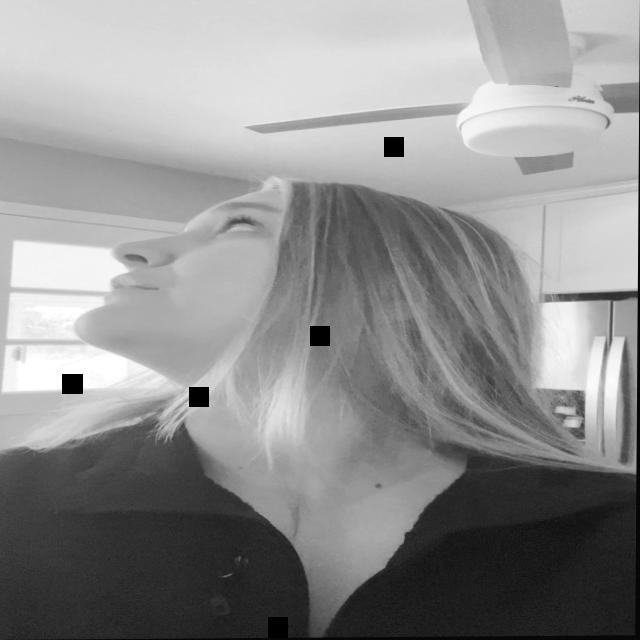NO-Mask: (71, 187, 301, 356)
